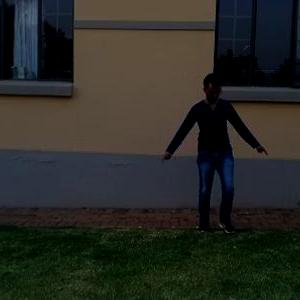land: (163, 65, 294, 252)
